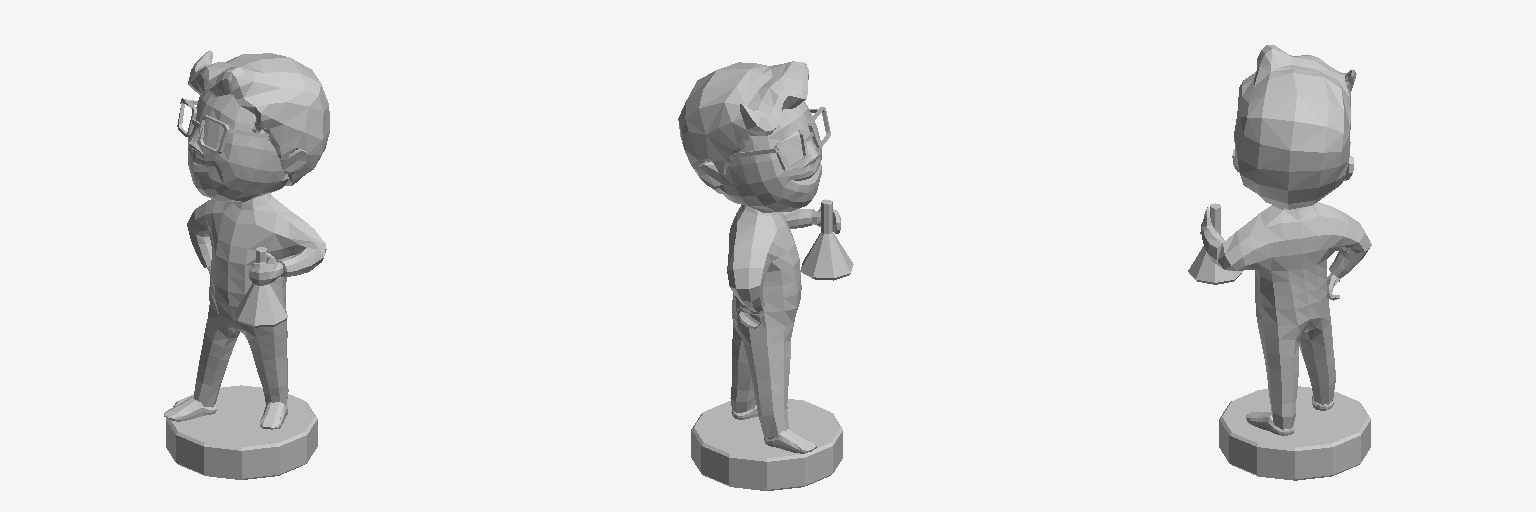
The model's file is Science_Bobble.obj.
The picture shows the model from 3 angles: view 1: azimuth 30°, elevation 25°; view 2: azimuth 150°, elevation 25°; view 3: azimuth 270°, elevation 25°; orthographic projection.
Visible parts, largest first — view 1: Science_Body, Science_Head; view 2: Science_Body, Science_Head; view 3: Science_Body, Science_Head.
Part boxes in pixels (x1,y1,x2,y2): Science_Body: (164,193,326,479); Science_Head: (177,50,329,201); Science_Body: (691,199,853,490); Science_Head: (678,61,830,212); Science_Body: (1188,202,1371,480); Science_Head: (1232,45,1356,209).
Bounding box in the file's own units: 6.26 × 16.25 × 6.88.